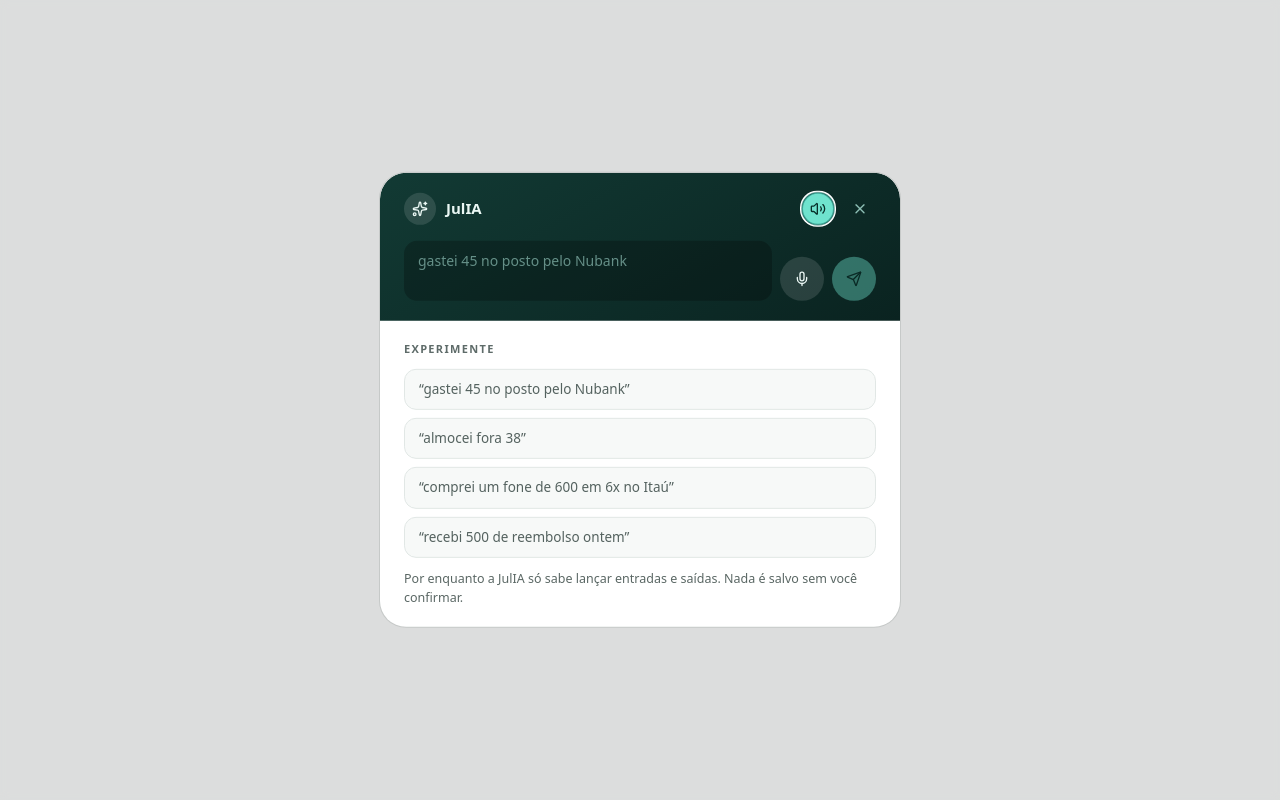
AssistantSheet › lê o resumo quando a voz está ligada
This screenshot has width=1280, height=800.
In the text box with placeholder "gastei 45 no posto pelo Nubank": (588, 271) x1=404 y1=241 x2=772 y2=301, type "gastei 45,90 no posto pelo nubank"
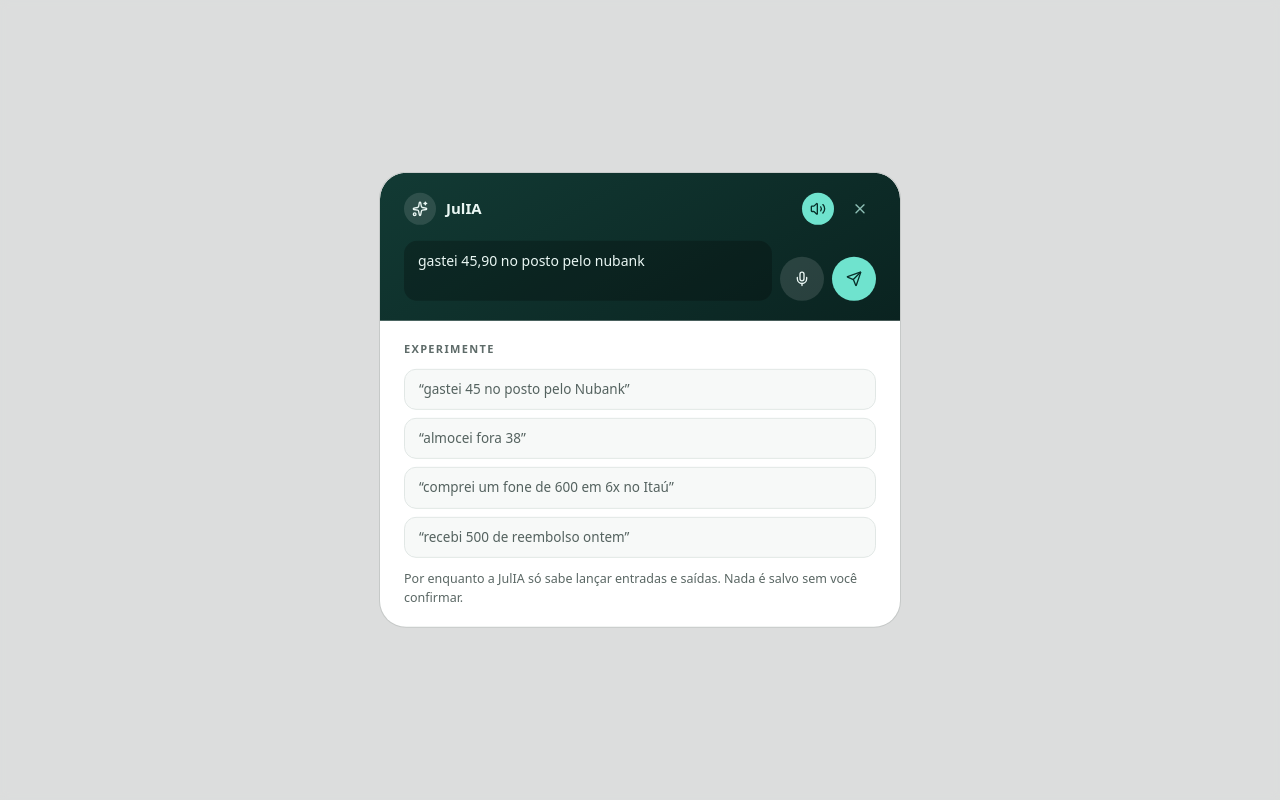
Click the button named "Enviar": (854, 279) x1=832 y1=257 x2=876 y2=301
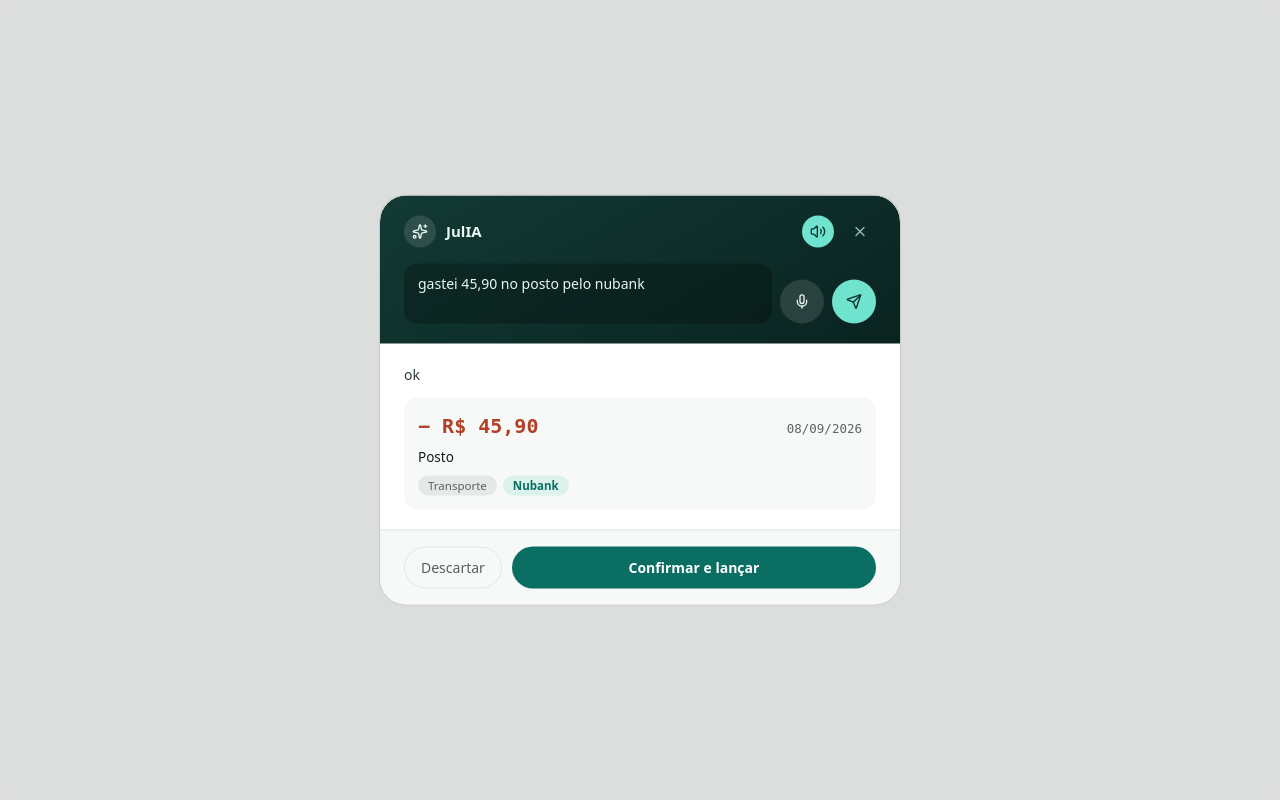
Now the button "Confirmar e lançar" is shown, box x1=512 y1=546 x2=876 y2=588
